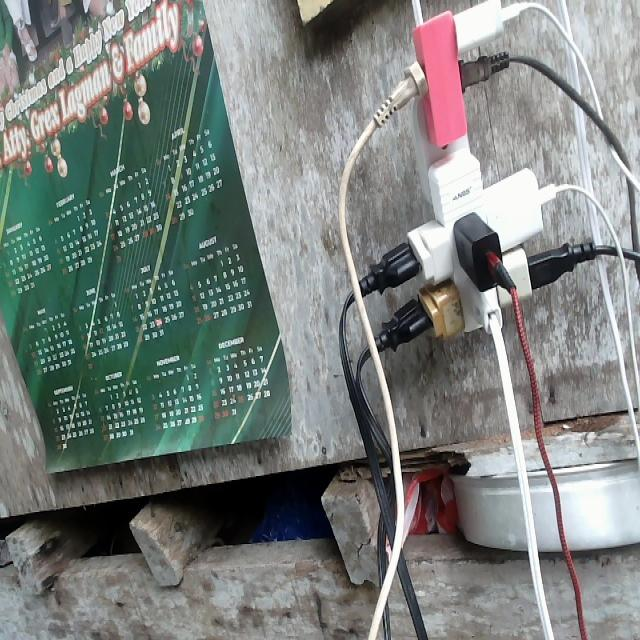-: (365, 5, 563, 340)
